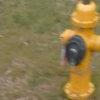Hydrant: (54, 0, 100, 100)
